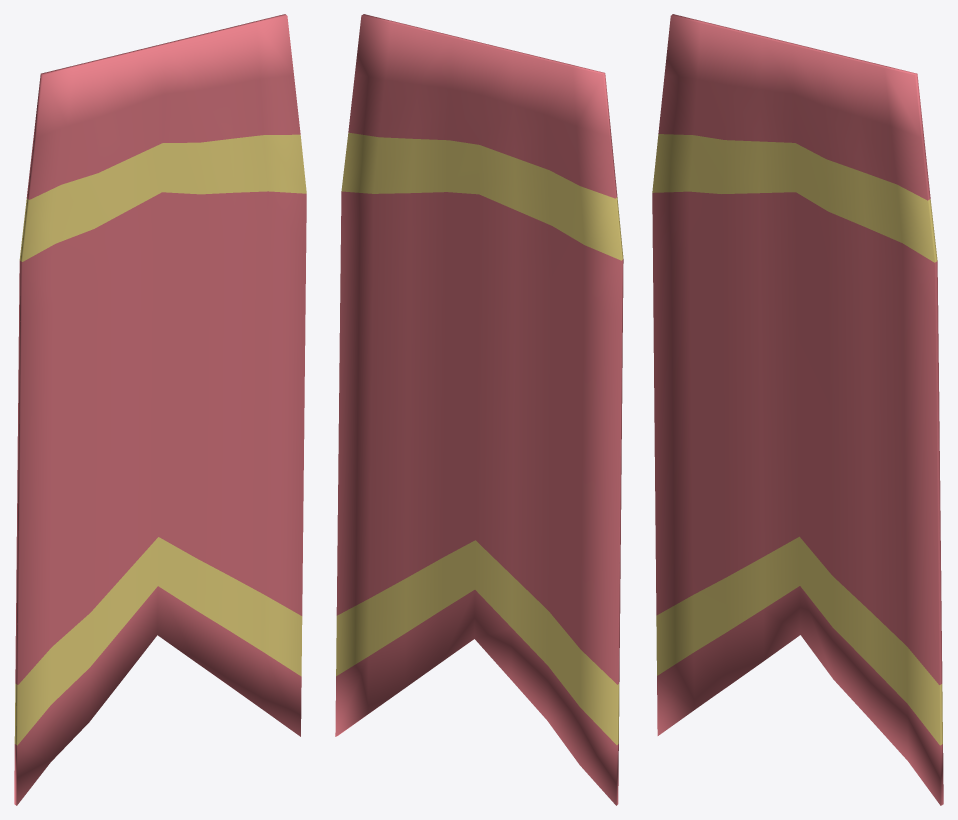
The model's file is banner_red_a.glb.
The picture shows the model from 3 angles, left to right: view 1: azimuth 30°, elevation 25°; view 2: azimuth 150°, elevation 25°; view 3: azimuth 330°, elevation 25°; orthographic projection.
Visible parts, largest first — view 1: banner_red_a; view 2: banner_red_a; view 3: banner_red_a.
Boxes of the visible parts, x1,y1,x2,y2 form: banner_red_a: (14, 14, 306, 805); banner_red_a: (335, 14, 623, 805); banner_red_a: (652, 14, 943, 805).
Bounding box in the file's own units: 1.1 × 2.7 × 0.0794.
